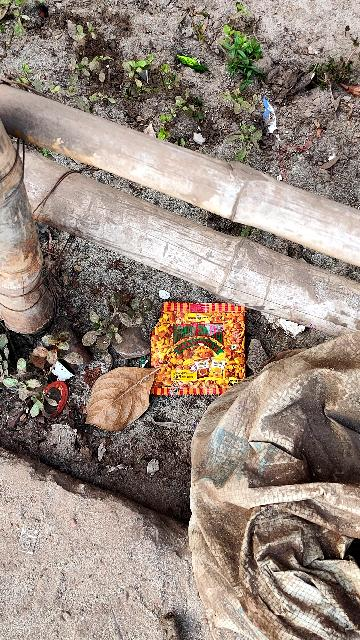packet: (149, 301, 252, 394)
